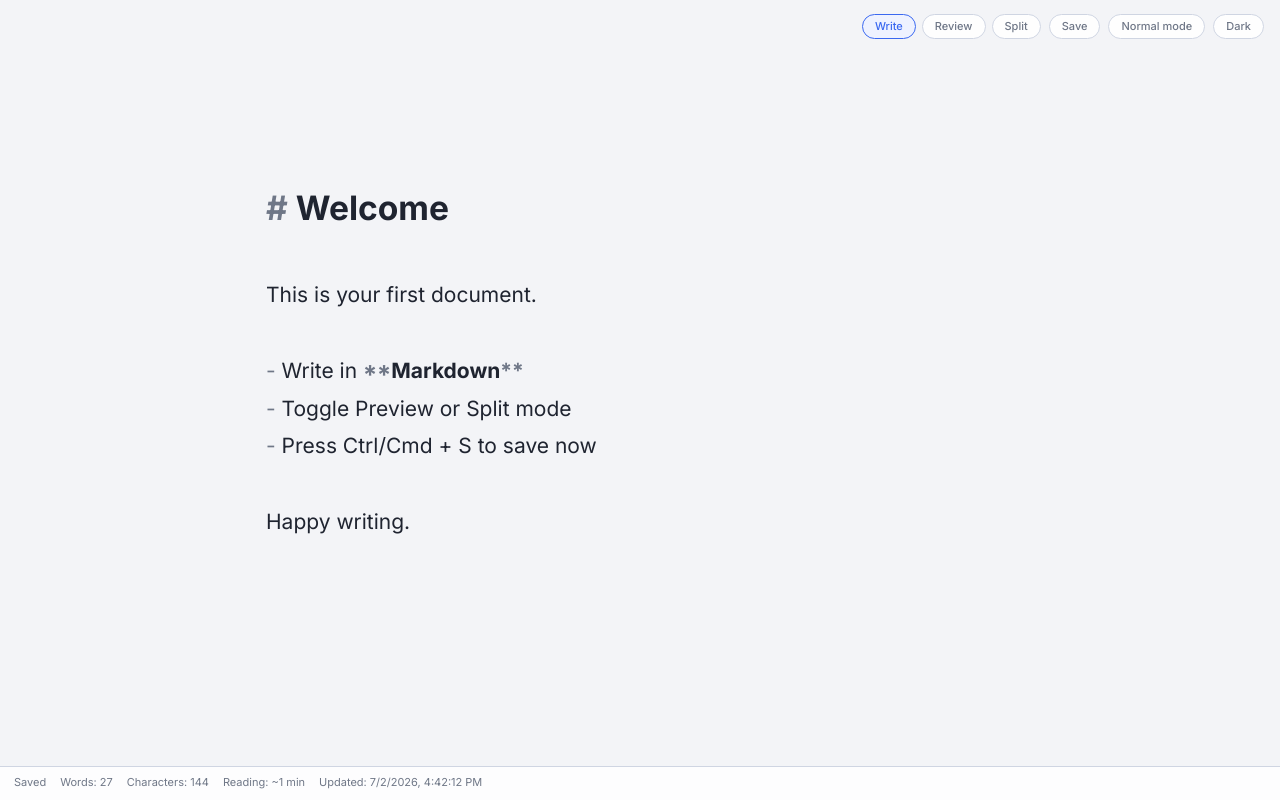
App — settings › opens settings as a sidebar panel (not a modal)
Click the button "Normal mode" at (1157, 26), box x1=1108 y1=14 x2=1205 y2=39
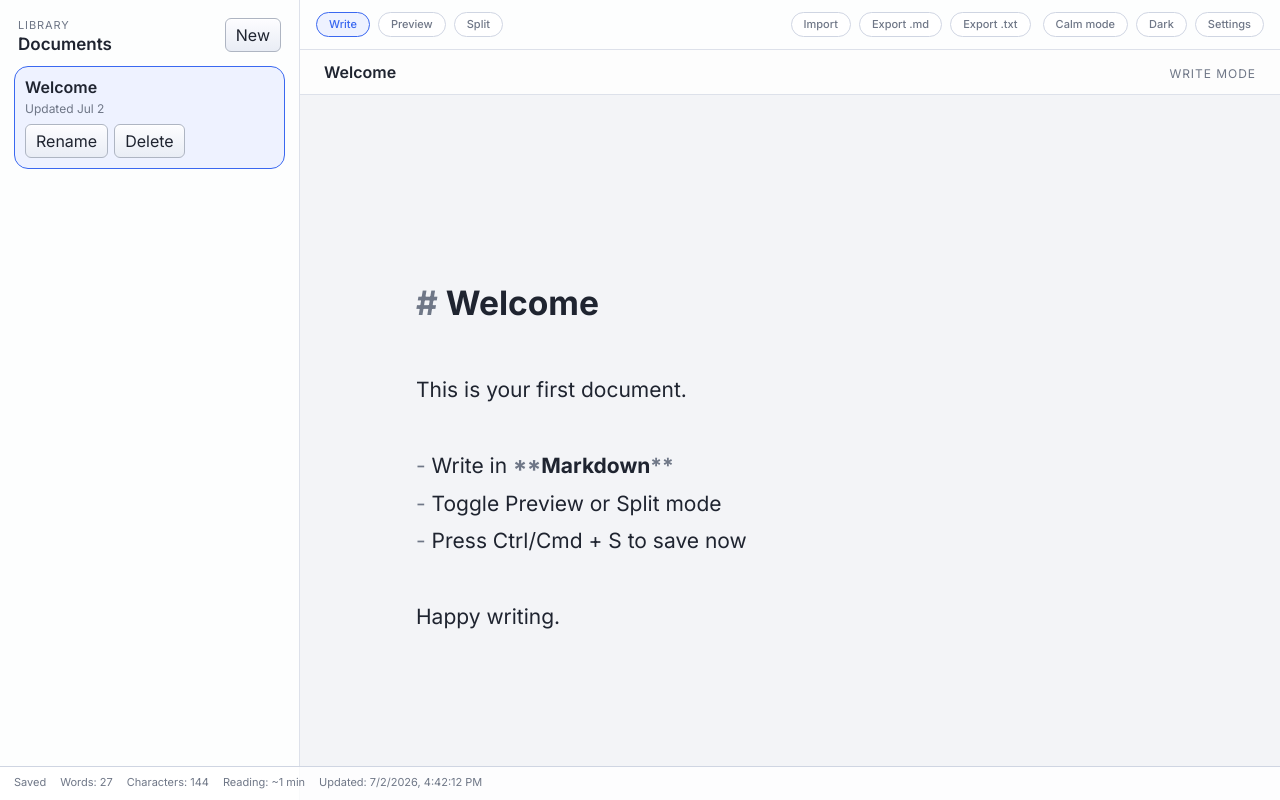
Click the button "Settings" at (1229, 24), box x1=1195 y1=12 x2=1264 y2=37
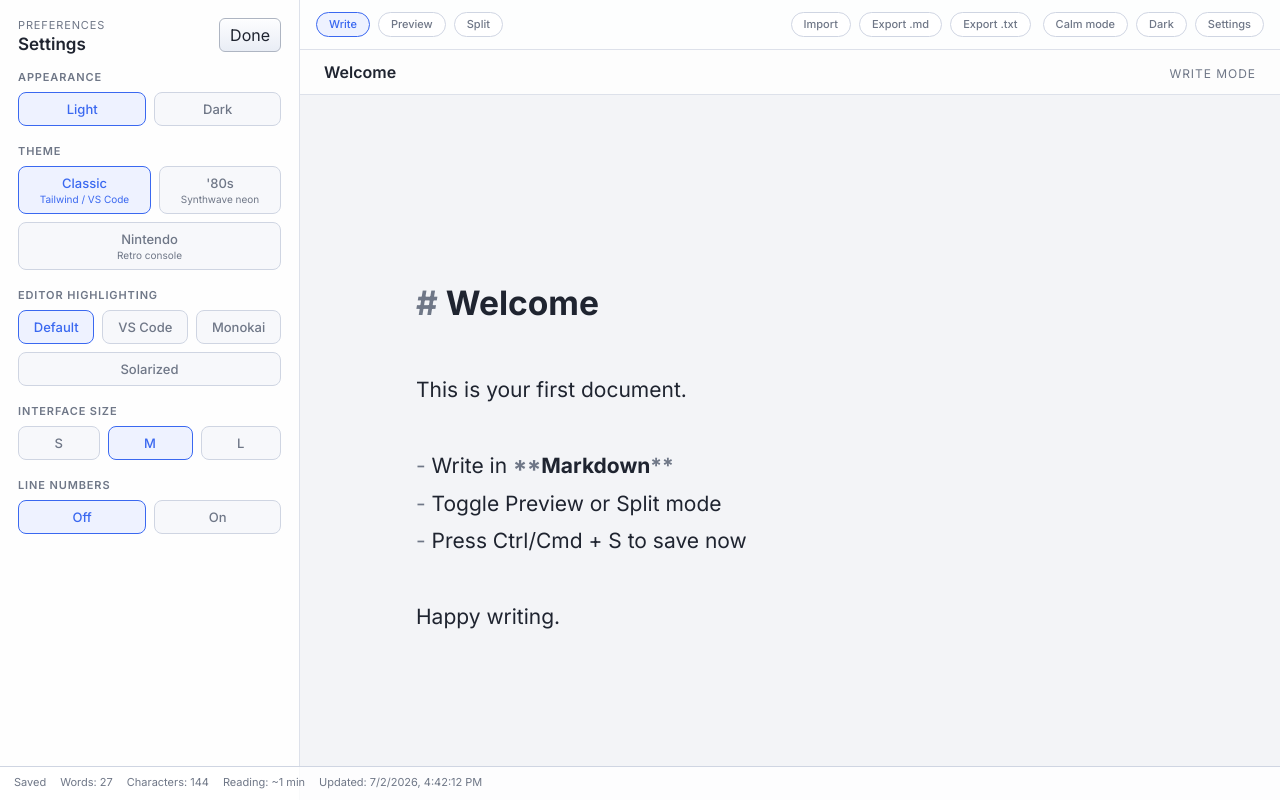
Expected: the element "Settings" is shown, x1=0 y1=0 x2=300 y2=799
